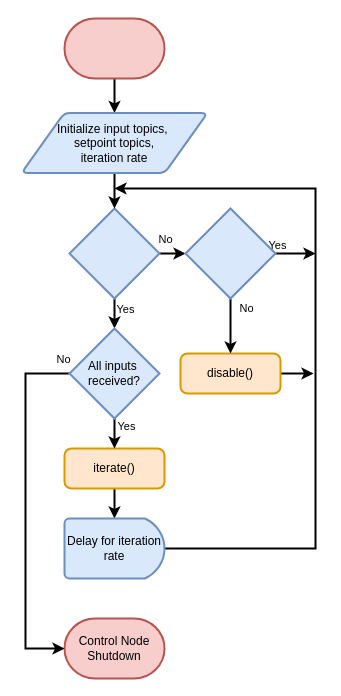
Image size: 341x696. Some labels were removed from this diagram. The shapes that lost their labels are listed below. From the top down, each one's box as (x1, y1, x2, y2) in pixels, then its label:
(63, 17, 165, 79): Control Node Start
(68, 207, 160, 299): Any setpoint enabled?
(184, 207, 276, 299): disable() already called?
